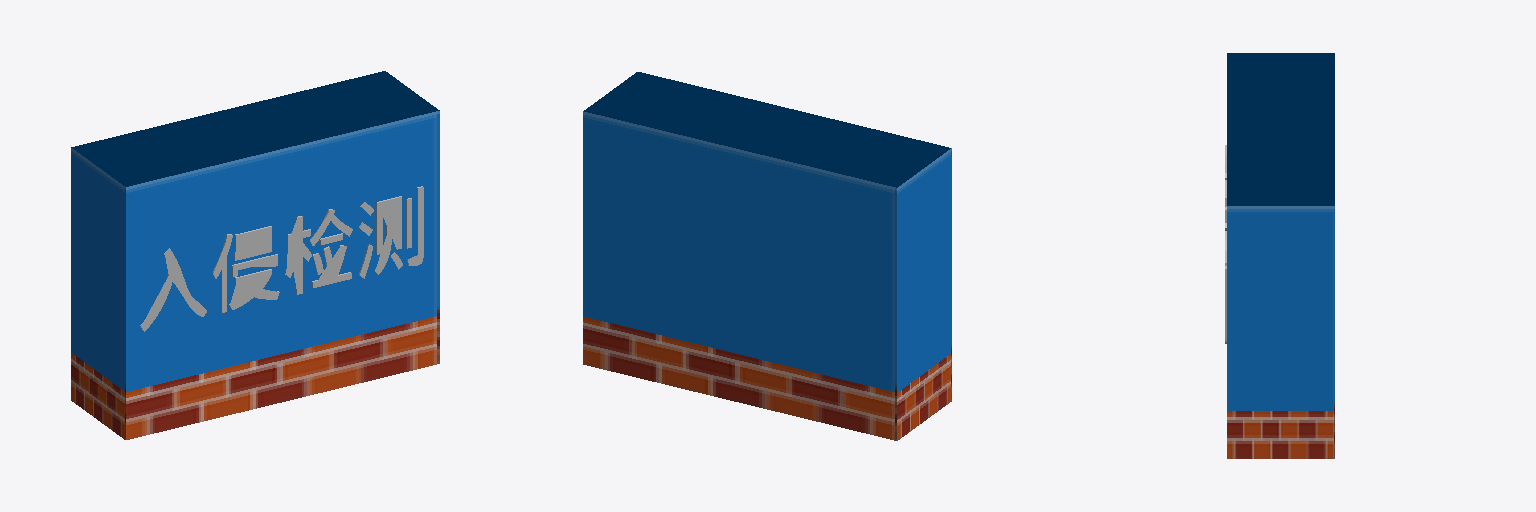
3 renders of one model, left to right at view 1: azimuth 30°, elevation 25°; view 2: azimuth 150°, elevation 25°; view 3: azimuth 270°, elevation 25°, orthographic.
Visible parts, largest first — view 1: 挤压; view 2: 挤压; view 3: 挤压.
Part boxes in pixels (x1,y1,x2,y2): 挤压: (71, 71, 439, 439); 挤压: (583, 72, 951, 440); 挤压: (1225, 53, 1334, 458).
Size of the model in its own units: 11.2 by 8.63 by 3.42.
Materials: 4 (1 with a texture image).